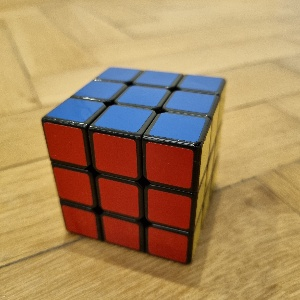cube: (41, 67, 227, 266)
